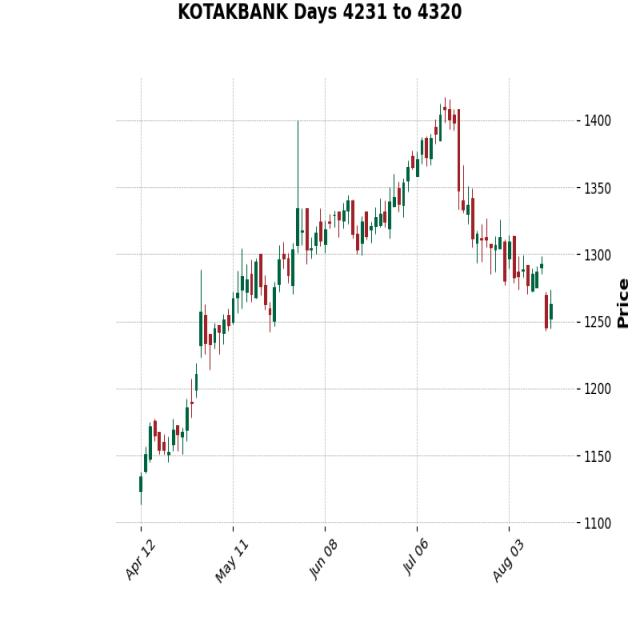Double Top: (394, 83, 503, 187)
